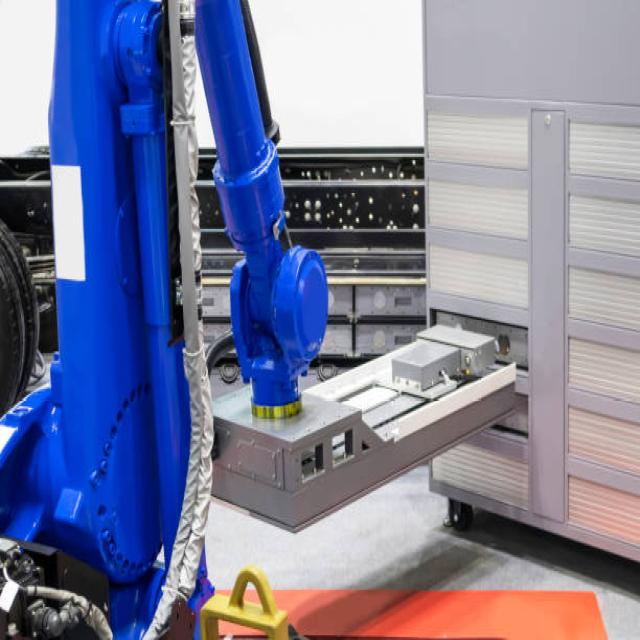Robotic-arm: (26, 0, 334, 640)
